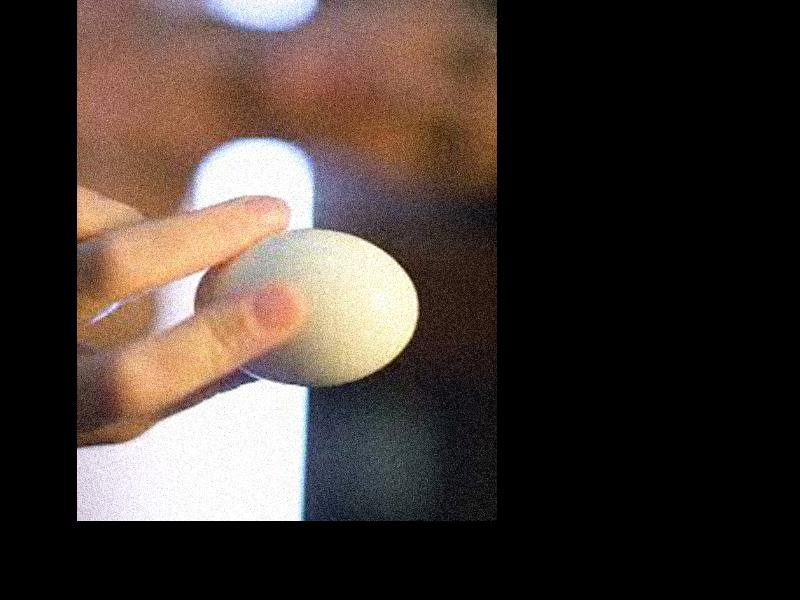Eggs: (193, 225, 418, 384)
